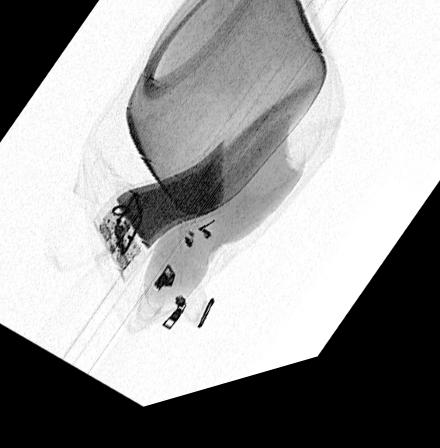Powerbank: (90, 140, 231, 292)
